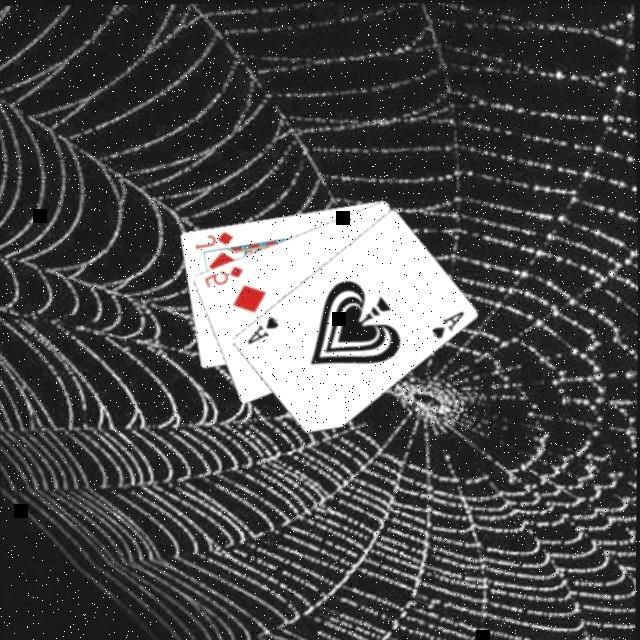5D: (199, 260, 243, 289)
AS: (425, 305, 465, 340), (240, 310, 279, 345)
JD: (190, 226, 234, 250)
